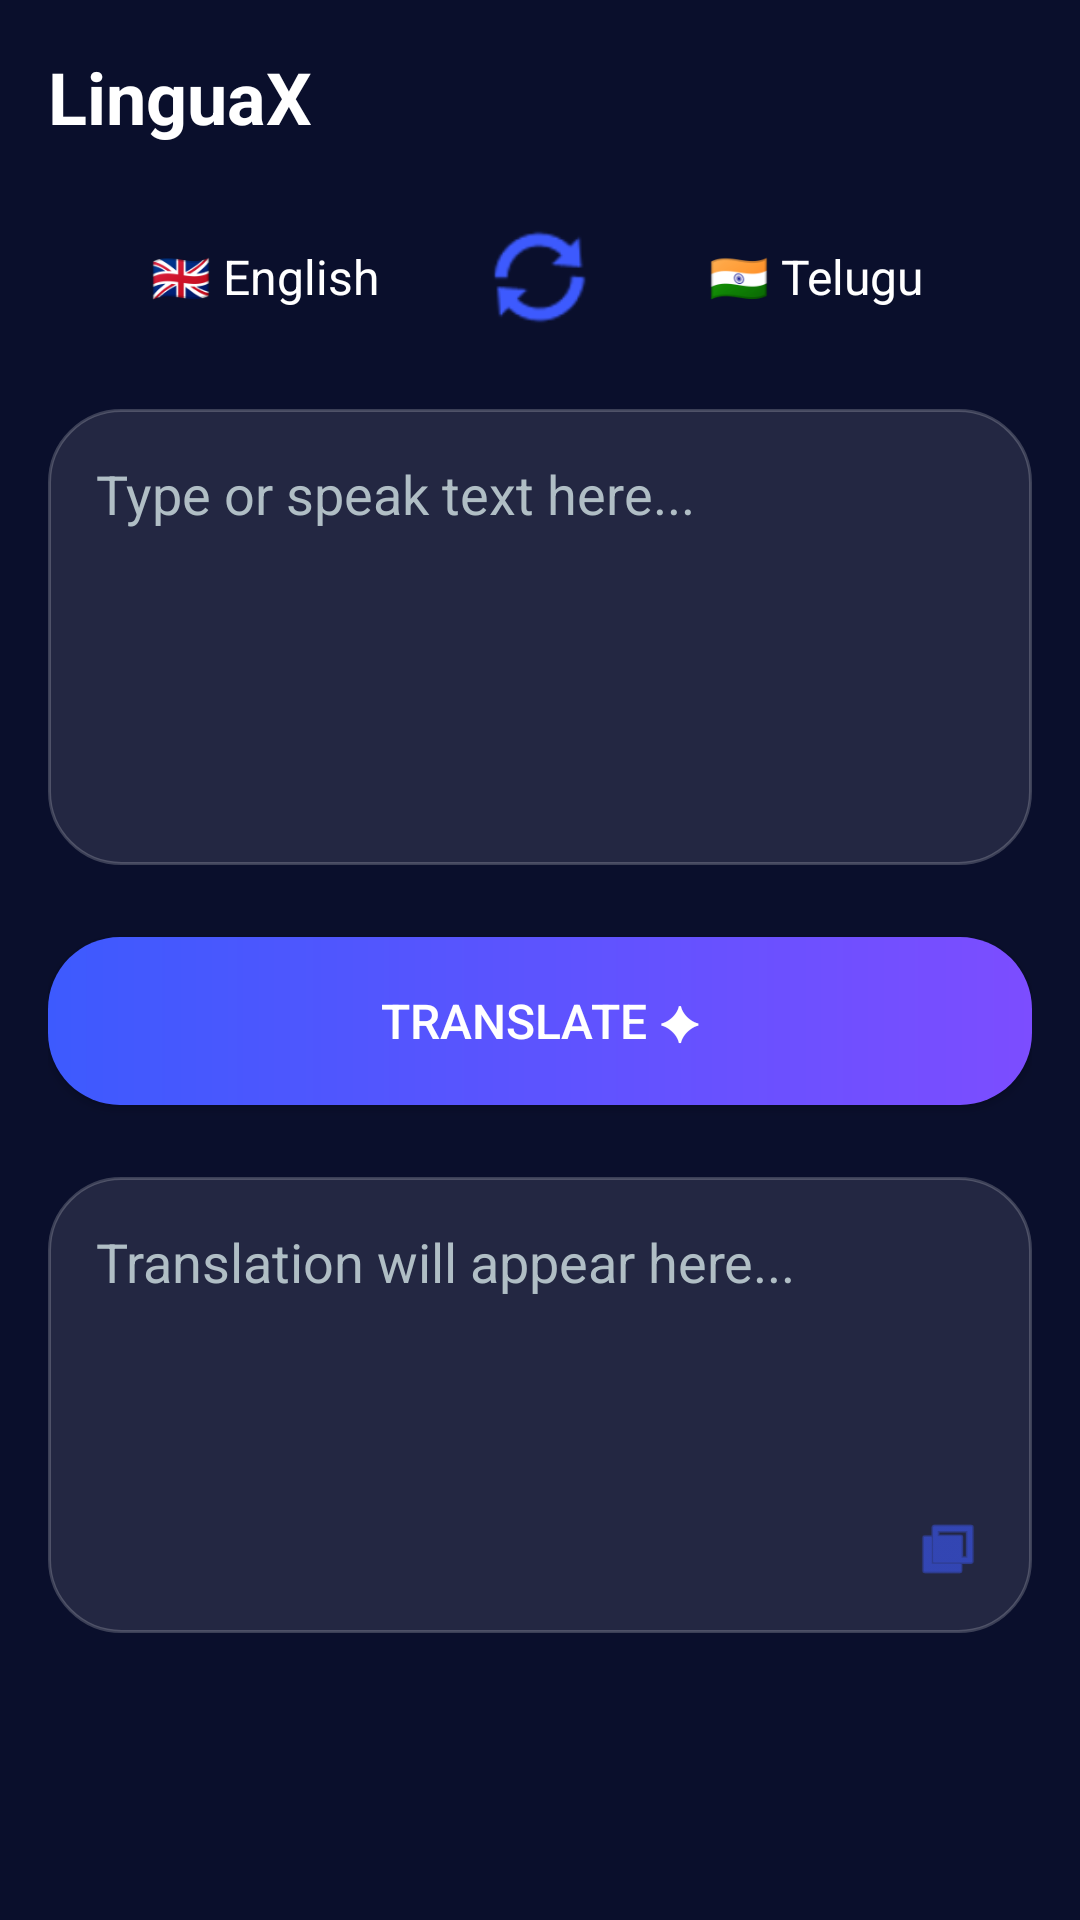

Icons on this 1080×1920 Android screen, each with the point to tap as (x,y):
popup sync: (540,277)
